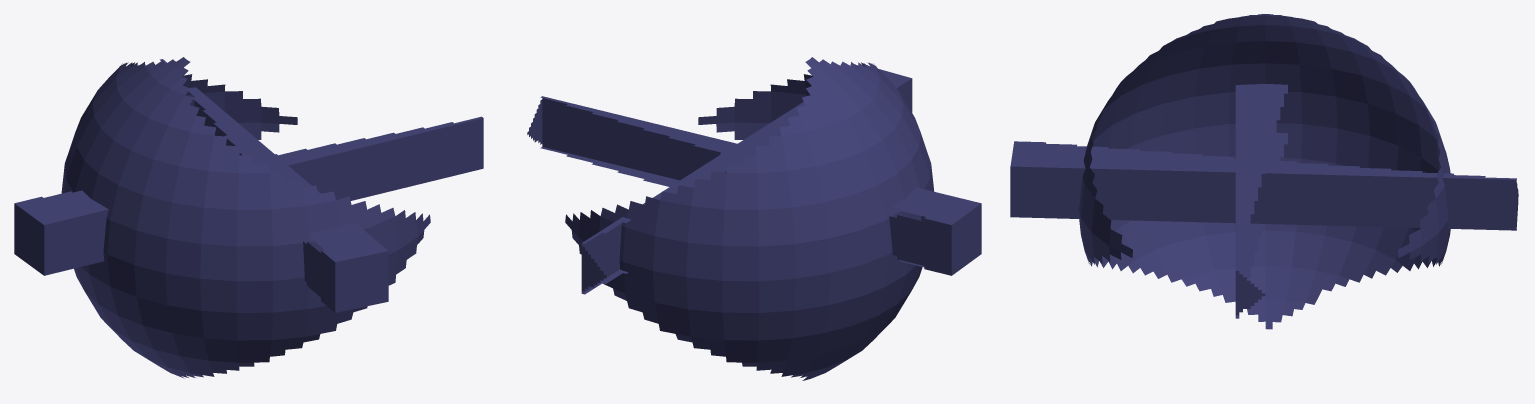
File: playerboll.obj
3 views of the same model, side by side, from view 1: azimuth 30°, elevation 25°; view 2: azimuth 150°, elevation 25°; view 3: azimuth 270°, elevation 25° (orthographic).
Parts seen in each view (by area): view 1: 立方体; view 2: 立方体; view 3: 立方体.
Part boxes in pixels (box(x1,y1,x2,y2)): 立方体: box(14, 57, 483, 378); 立方体: box(527, 57, 981, 380); 立方体: box(1010, 14, 1518, 329).
Size of the model in its own units: 2.7 by 2 by 2.71.
Materials: 1 (1 with a texture image).
